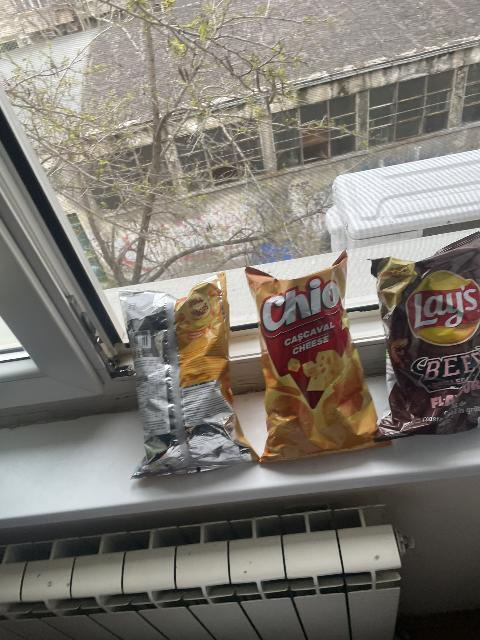Chio Cascaval 125g: (251, 251, 388, 457)
Chio Hula Hoops Cheese 70g: (120, 282, 253, 479)
Lays Beef Grilled Ribs 125g: (371, 232, 480, 437)
